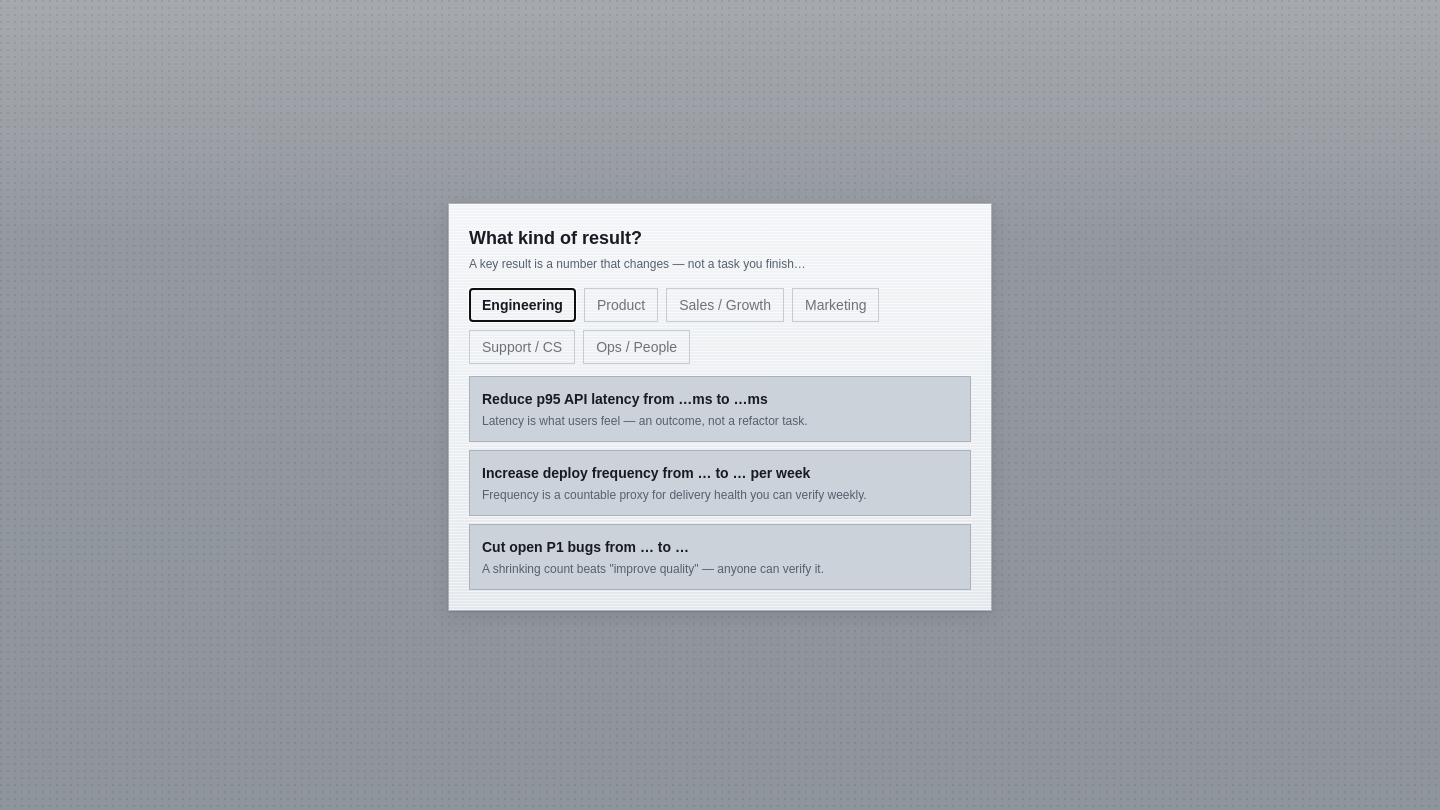
KrWizard › warns amber past 4 key results
Click the text "Reduce p95 API latency from …ms to …ms": click(625, 398) [482,390,768,406]
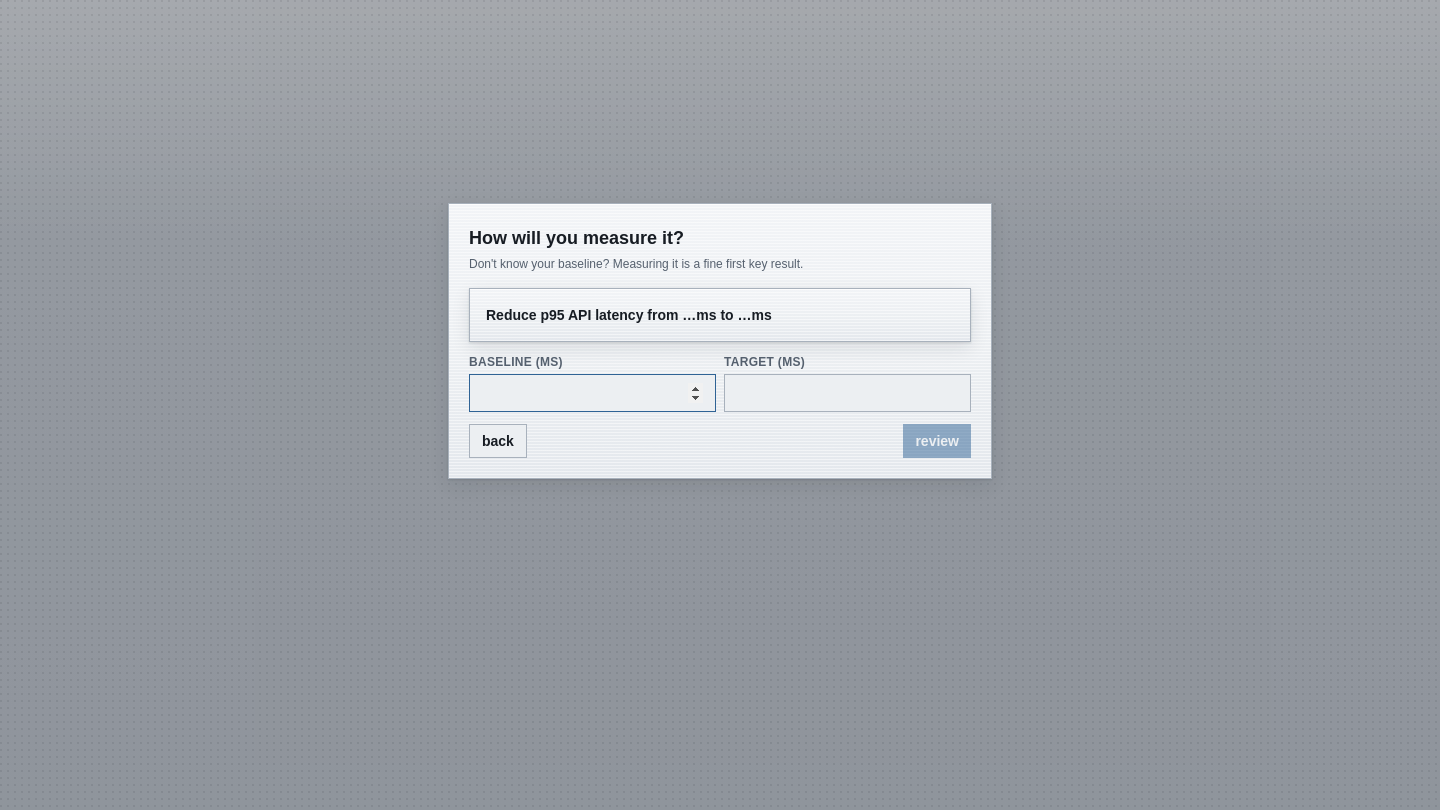
In the number field labelled "Baseline (ms)": (592, 392) [469,374,716,412], type "9"
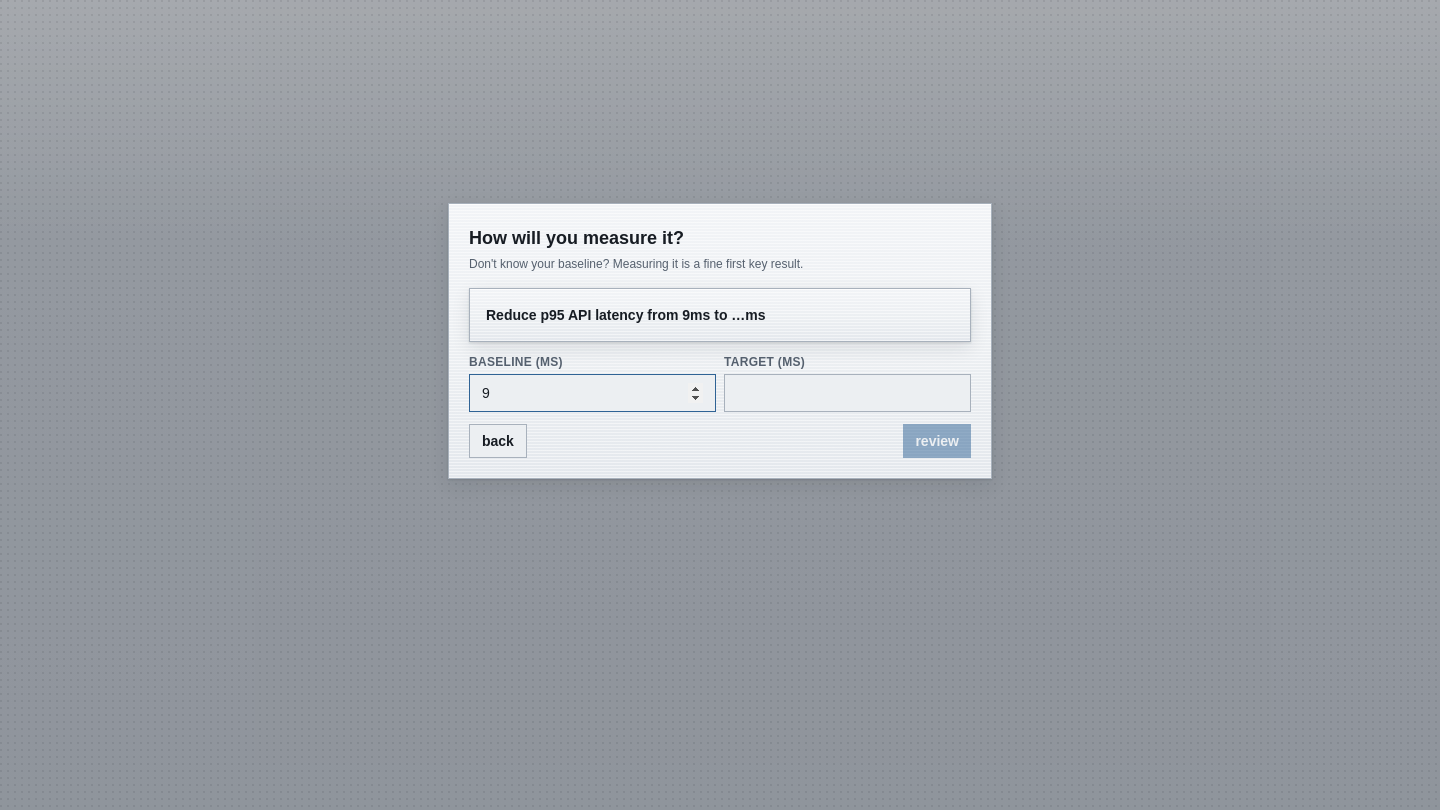
In the number field labelled "Target (ms)": (848, 392) [724,374,971,412], type "1"
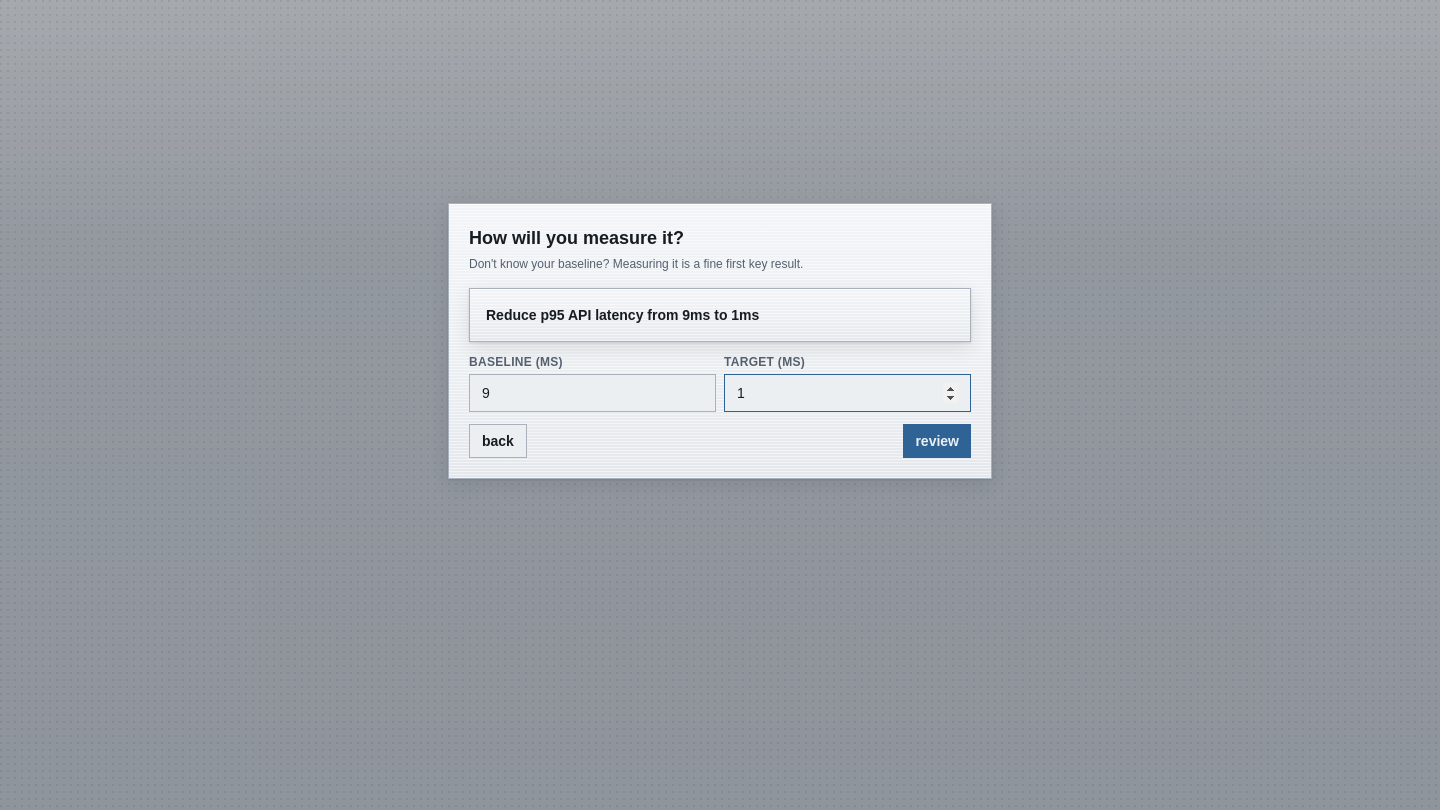
Click the button "review": click(937, 440) [903,424,971,458]
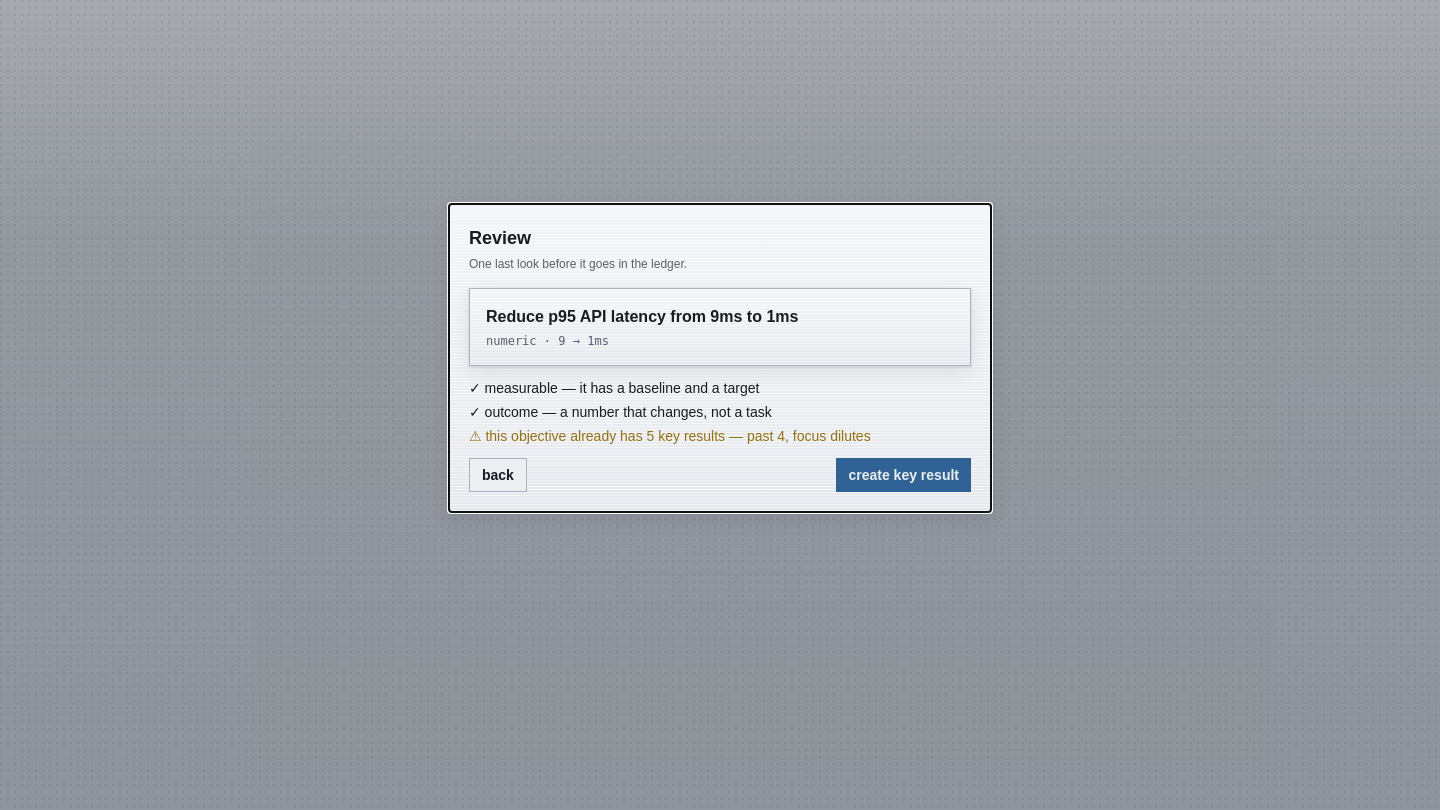
Expected: the list item "already has 5 key results" is shown, [469,428,871,444]
